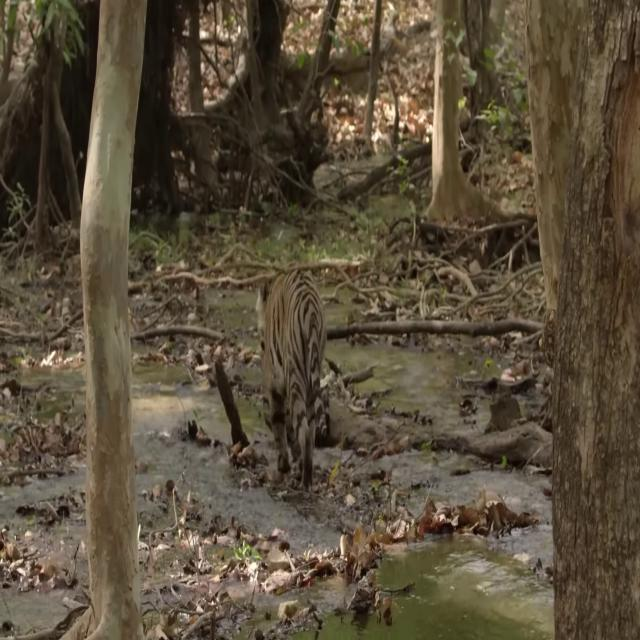tiger: (263, 268, 328, 493)
